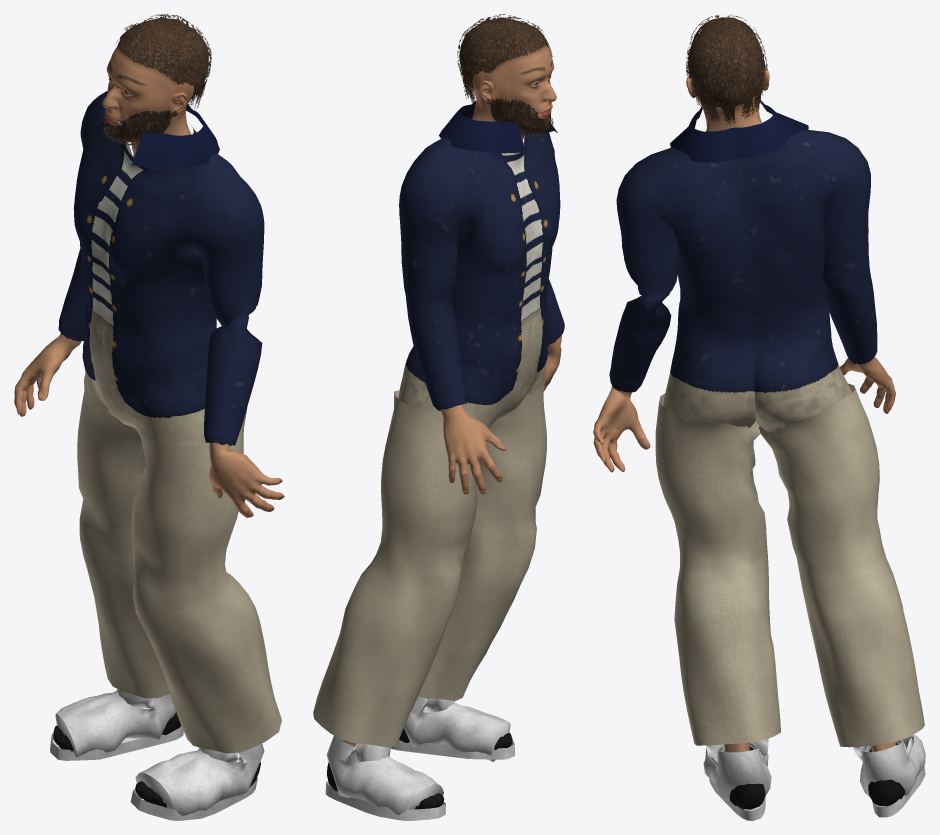
Rendered from SM_Art_Person_marc.gltf.
3 views of the same model, side by side, from view 1: azimuth 30°, elevation 25°; view 2: azimuth 150°, elevation 25°; view 3: azimuth 270°, elevation 25° (orthographic). The views are drawn at different scales.
Parts seen in each view (by area): view 1: SM_Art_Person_marc; view 2: SM_Art_Person_marc; view 3: SM_Art_Person_marc.
Part boxes in pixels (left/top/right/bottom): SM_Art_Person_marc: left=14, top=14, right=284, bottom=820; SM_Art_Person_marc: left=313, top=14, right=564, bottom=820; SM_Art_Person_marc: left=593, top=14, right=925, bottom=820.
Size of the model in its own units: 0.4429 by 1.8 by 0.7236.
Materials: 16 (16 with a texture image).
